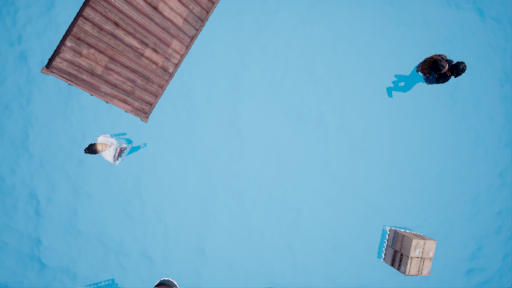person: (378, 51, 466, 112), (86, 130, 158, 167)
